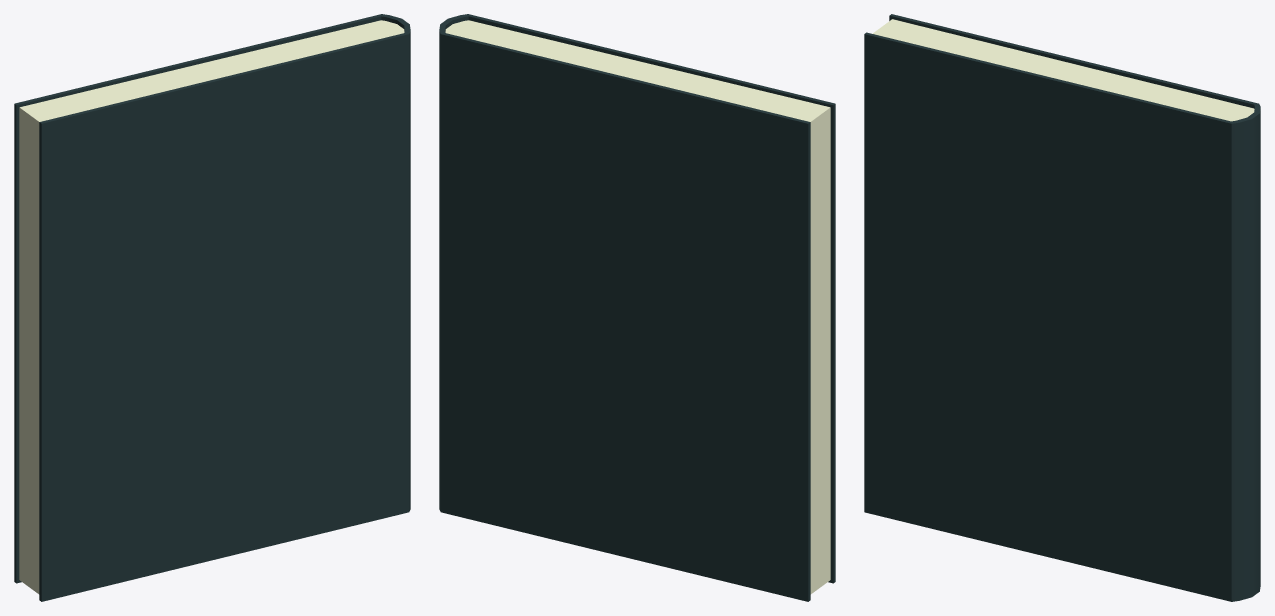
File: newbook12.fbx
3 renders of one model, left to right at view 1: azimuth 30°, elevation 25°; view 2: azimuth 150°, elevation 25°; view 3: azimuth 330°, elevation 25°, orthographic.
Visible parts, largest first — view 1: Book12; view 2: Book12; view 3: Book12.
Boxes of the visible parts, left/top/right/bottom form: Book12: left=14, top=14, right=410, bottom=601; Book12: left=439, top=14, right=835, bottom=601; Book12: left=864, top=14, right=1260, bottom=601.
Size of the model in its own units: 15.42 by 18.65 by 1.94.
